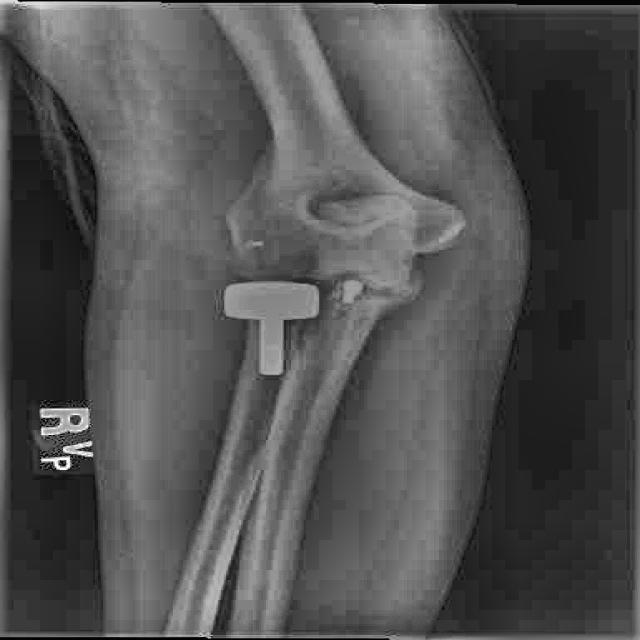elbow positive: (374, 184, 472, 280)
